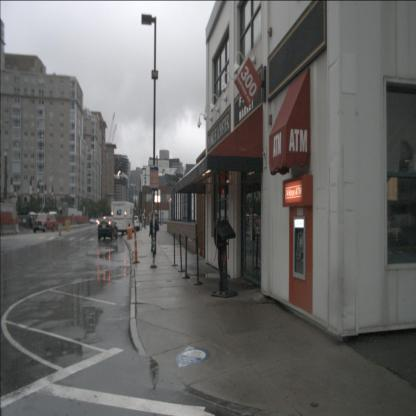human-pedestrian-adult: (149, 213, 159, 255)
movable_object-barrier: (1, 223, 17, 236), (127, 226, 132, 240), (15, 225, 20, 234)
movable_object-trafficcone: (132, 229, 140, 264), (58, 218, 63, 236)
vehicle-car: (111, 201, 135, 234), (98, 216, 119, 241), (32, 213, 56, 233), (244, 214, 266, 233), (130, 215, 140, 231)
